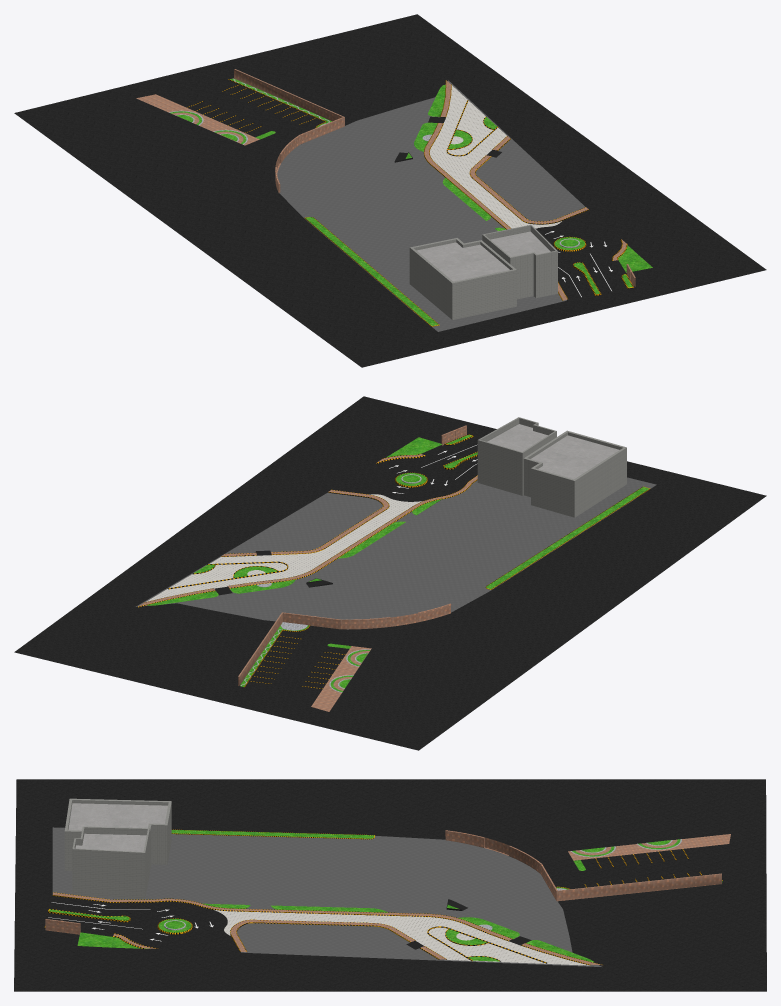
Rendered from Delta_9_Exterior.glb.
3 renders of one model, top to bottom at view 1: azimuth 30°, elevation 25°; view 2: azimuth 150°, elevation 25°; view 3: azimuth 270°, elevation 25°, orthographic. The views are drawn at different scales.
Parts seen in each view (by area): view 1: Road, Base, SB_2, Entrance path, Grass, SB_Roof, F_Path, Pavment, wall; view 2: Road, Base, SB_2, Entrance path, Grass, Pavment, SB_Roof, F_Path, wall, Stone; view 3: Road, Base, SB_2, Entrance path, Grass, Pavment, F_Path, wall, SB_Roof, Stone.
Boxes of the visible parts, x1,y1,x2,y2 form: Road: [14, 14, 766, 367]; Base: [277, 80, 585, 331]; SB_2: [409, 224, 557, 319]; Entrance path: [429, 85, 561, 228]; Grass: [170, 78, 652, 325]; SB_Roof: [416, 231, 550, 281]; F_Path: [136, 80, 626, 300]; Pavment: [187, 79, 633, 326]; wall: [234, 69, 635, 287]; Road: [14, 396, 766, 750]; Base: [136, 477, 656, 629]; SB_2: [477, 417, 626, 517]; Entrance path: [146, 494, 422, 601]; Grass: [147, 435, 649, 692]; Pavment: [138, 434, 650, 688]; SB_Roof: [487, 424, 619, 479]; F_Path: [138, 454, 477, 711]; wall: [238, 425, 466, 685]; Stone: [240, 474, 421, 692]; Road: [14, 779, 766, 991]; Base: [52, 827, 601, 966]; SB_2: [64, 798, 171, 898]; Entrance path: [214, 909, 589, 965]; Grass: [49, 830, 722, 962]; Pavment: [44, 829, 722, 965]; F_Path: [53, 834, 730, 965]; wall: [45, 830, 721, 934]; SB_Roof: [68, 803, 167, 851]; Stone: [164, 839, 681, 930].
Size of the model in its own units: 14.01 by 1.59 by 21.
Materials: 10 (10 with a texture image).
